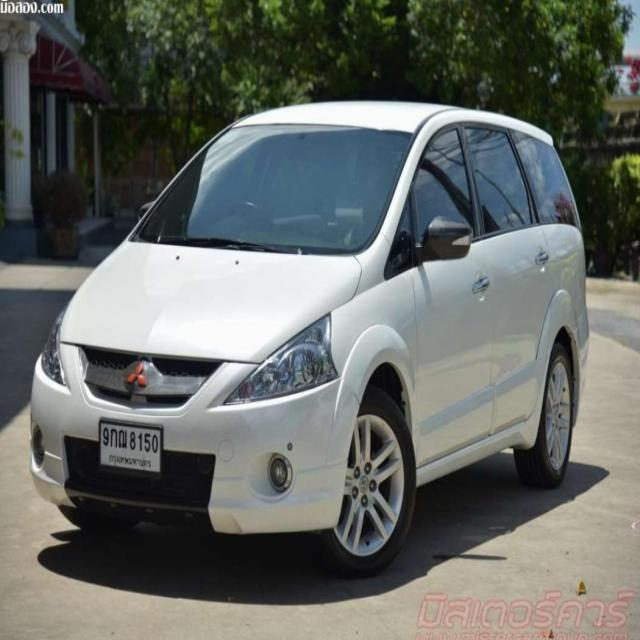license_plate: (97, 415, 165, 480)
